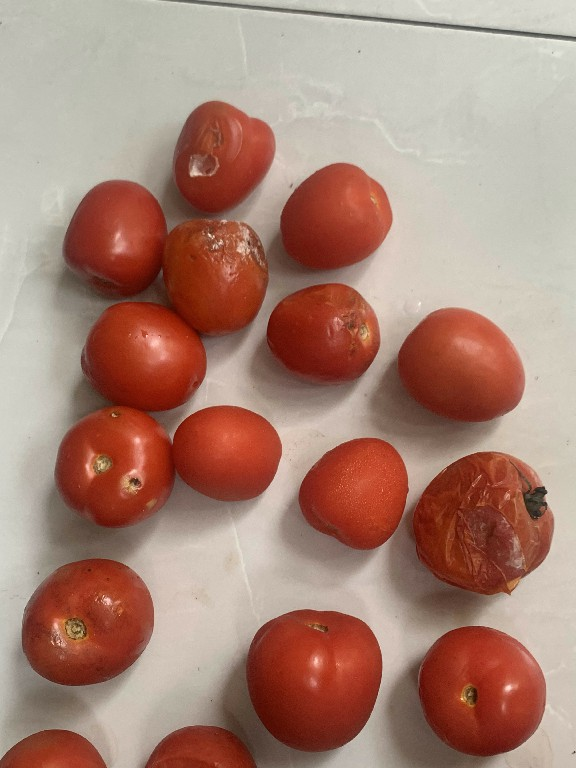NG: (419, 446, 564, 593), (47, 403, 177, 530), (158, 216, 269, 340), (262, 278, 383, 385), (170, 94, 276, 216)
OK: (19, 549, 173, 698), (246, 601, 383, 753), (415, 620, 550, 767), (392, 300, 527, 425), (79, 297, 207, 412), (58, 175, 168, 296), (294, 436, 408, 552), (277, 158, 391, 269), (170, 401, 288, 506)
